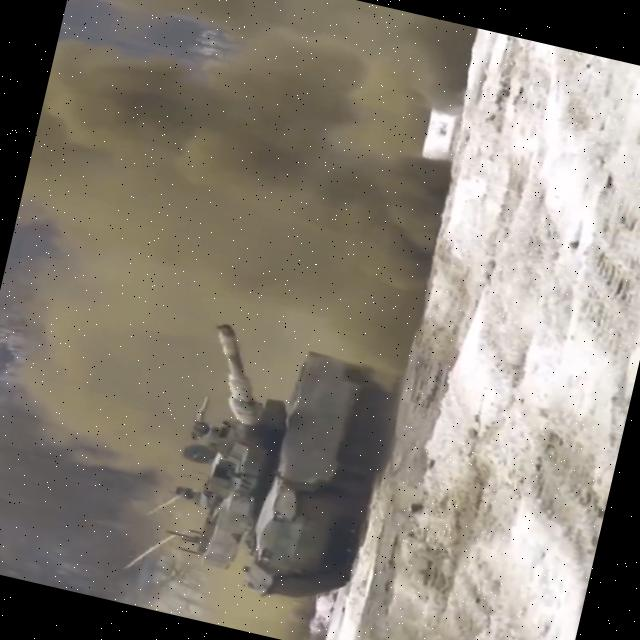korea tank: (148, 318, 402, 616)
